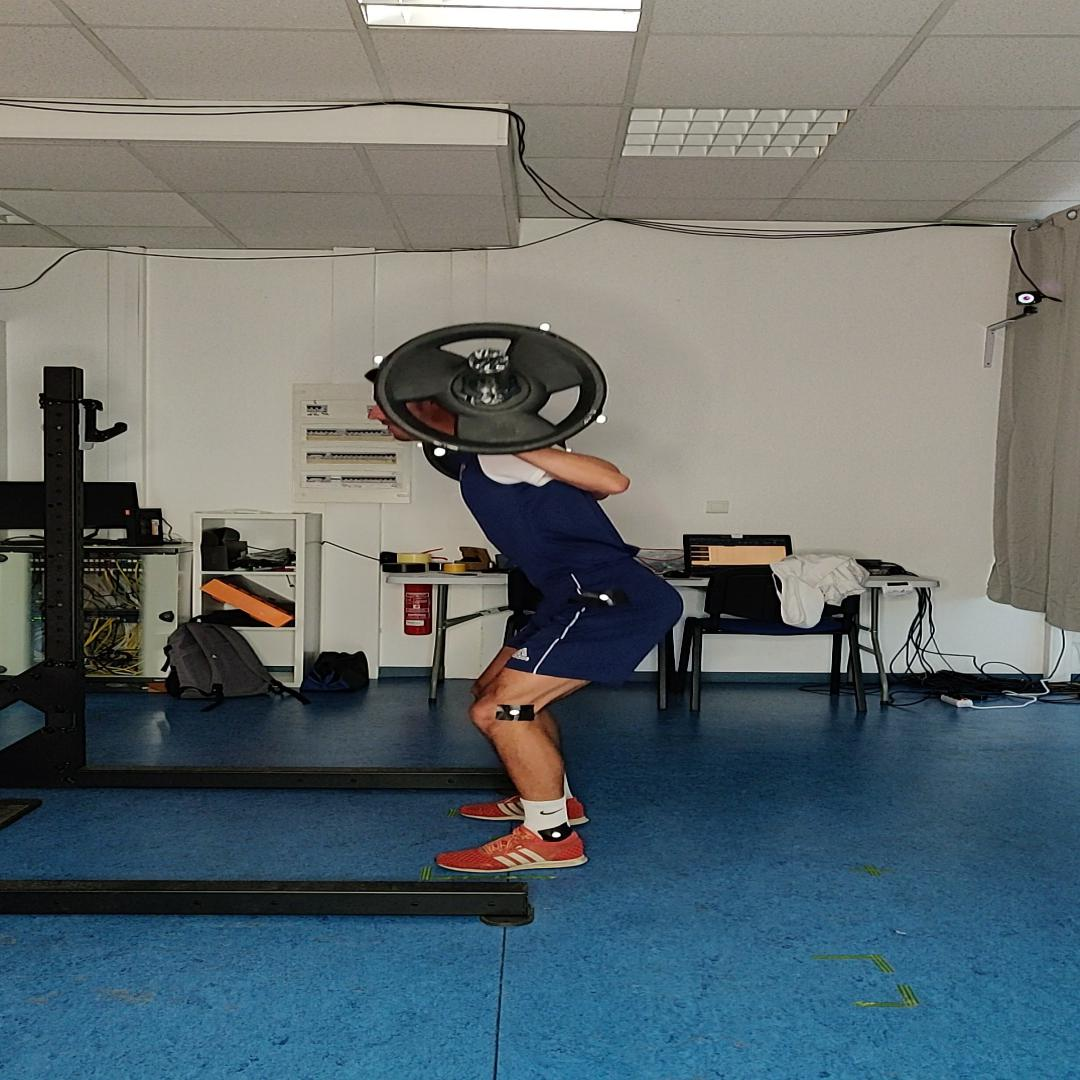Bar: (469, 348, 510, 374)
Barbell: (374, 322, 607, 455)
